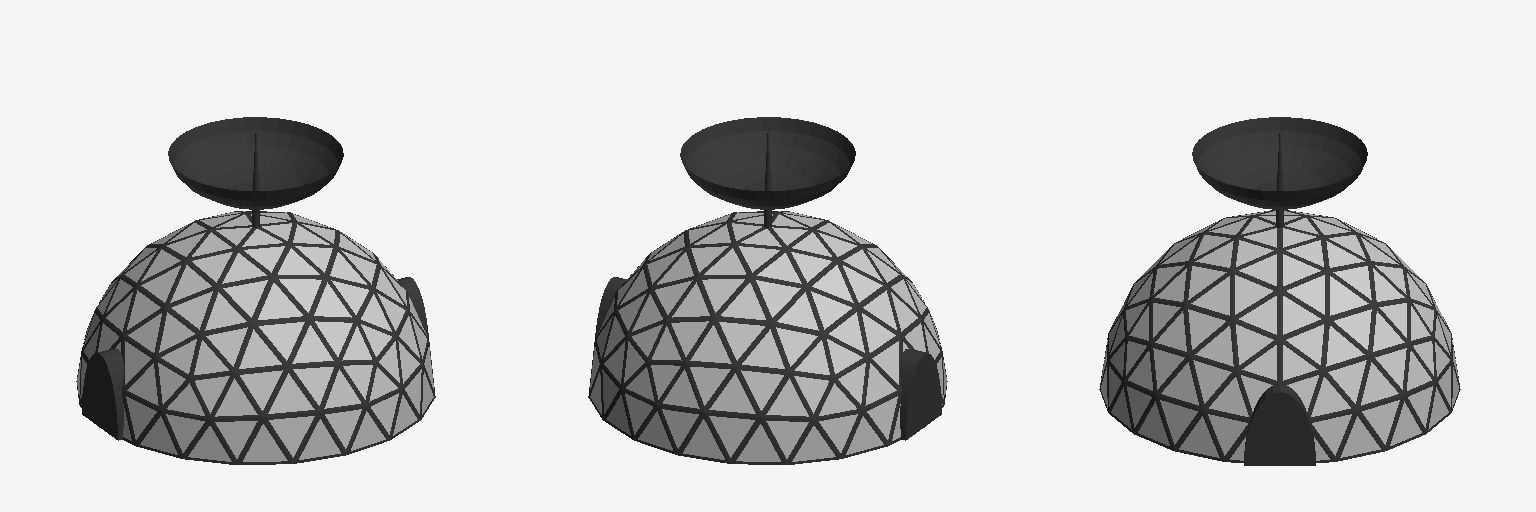
The model's file is research_station.obj.
3 views of the same model, side by side, from view 1: azimuth 30°, elevation 25°; view 2: azimuth 150°, elevation 25°; view 3: azimuth 270°, elevation 25° (orthographic).
Parts seen in each view (by area): view 1: Glass.001, Framework; view 2: Glass.001, Framework; view 3: Glass.001, Framework.
Boxes of the visible parts, x1,y1,x2,y2 form: Glass.001: [77, 211, 433, 461]; Framework: [76, 117, 435, 464]; Glass.001: [590, 211, 946, 461]; Framework: [588, 117, 947, 464]; Glass.001: [1101, 211, 1458, 460]; Framework: [1099, 117, 1460, 465].
Size of the model in its own units: 10.02 by 8.17 by 10.02.